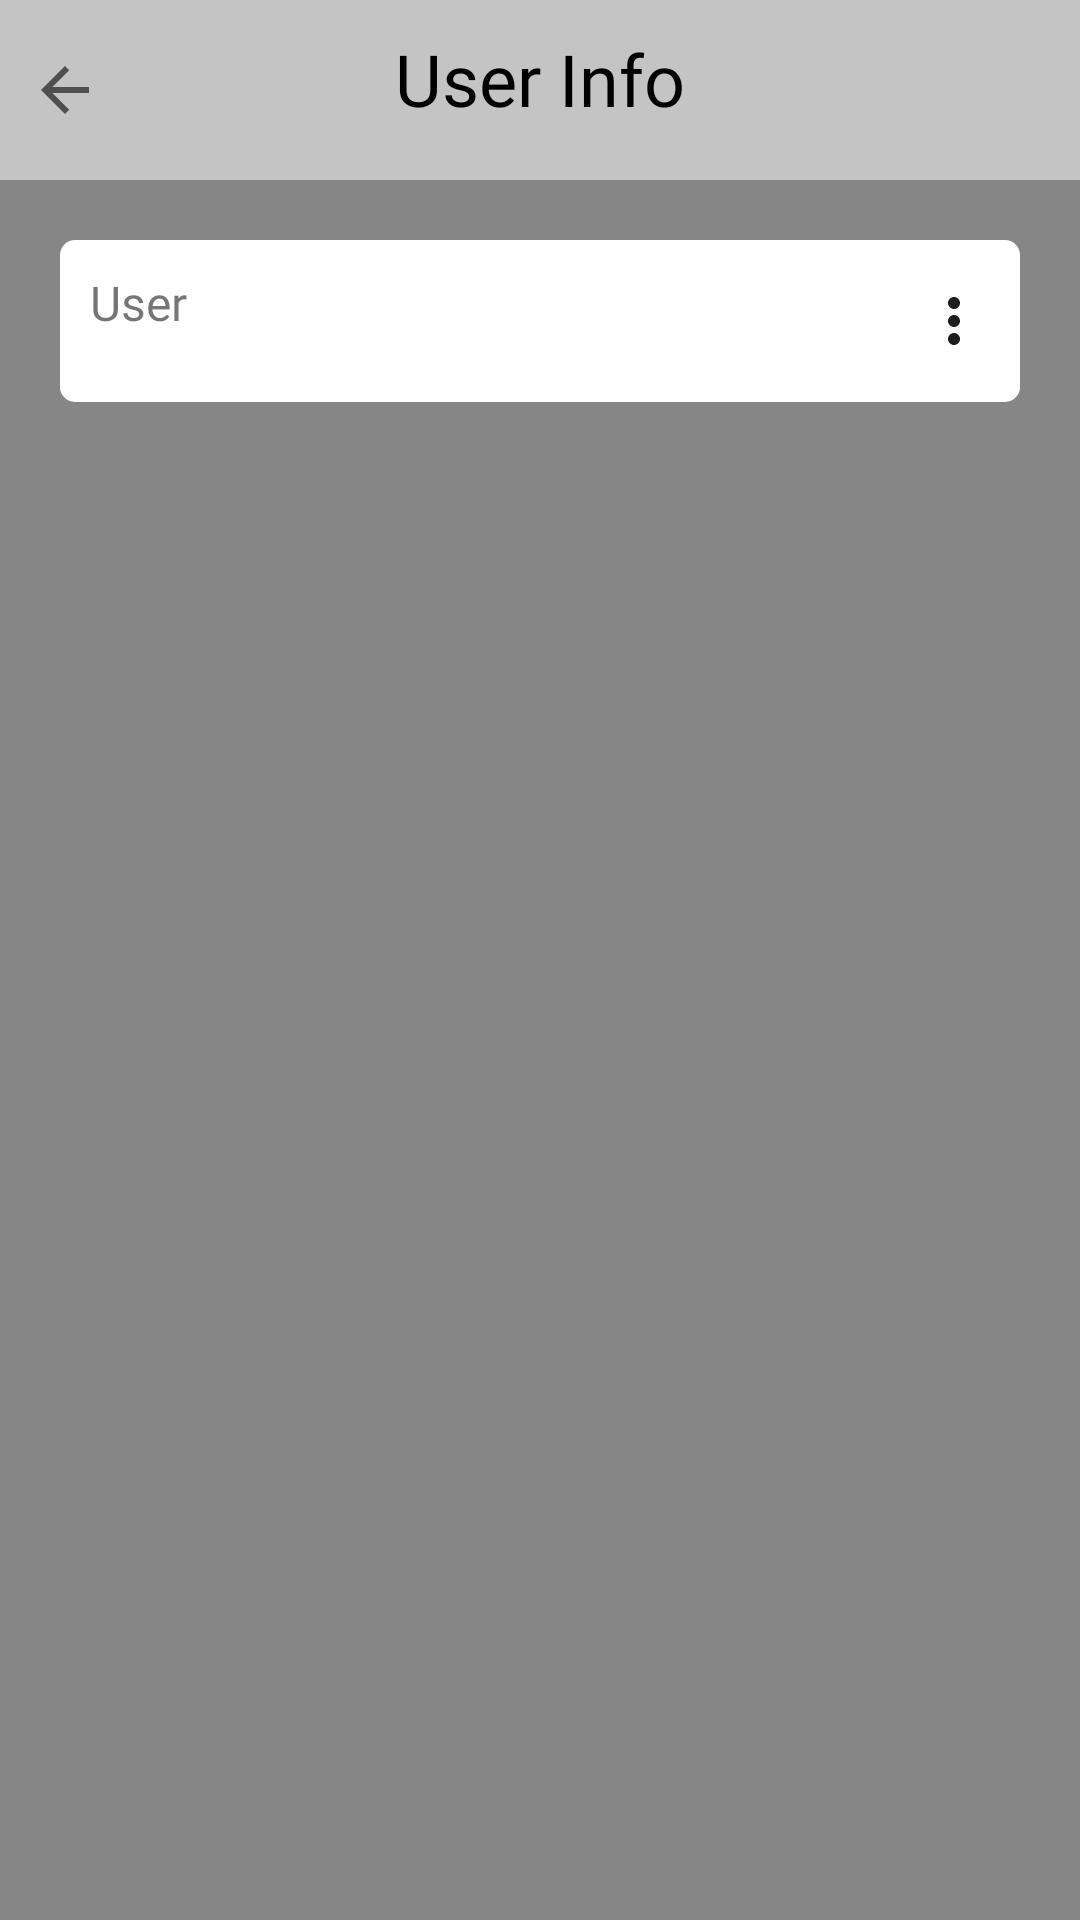

Icons on this 1080px×1920px Android screen, each with the point to tap as [x,y]:
more vert: [954,321]
